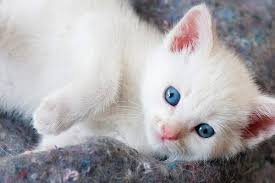Gato: (124, 2, 275, 163)
